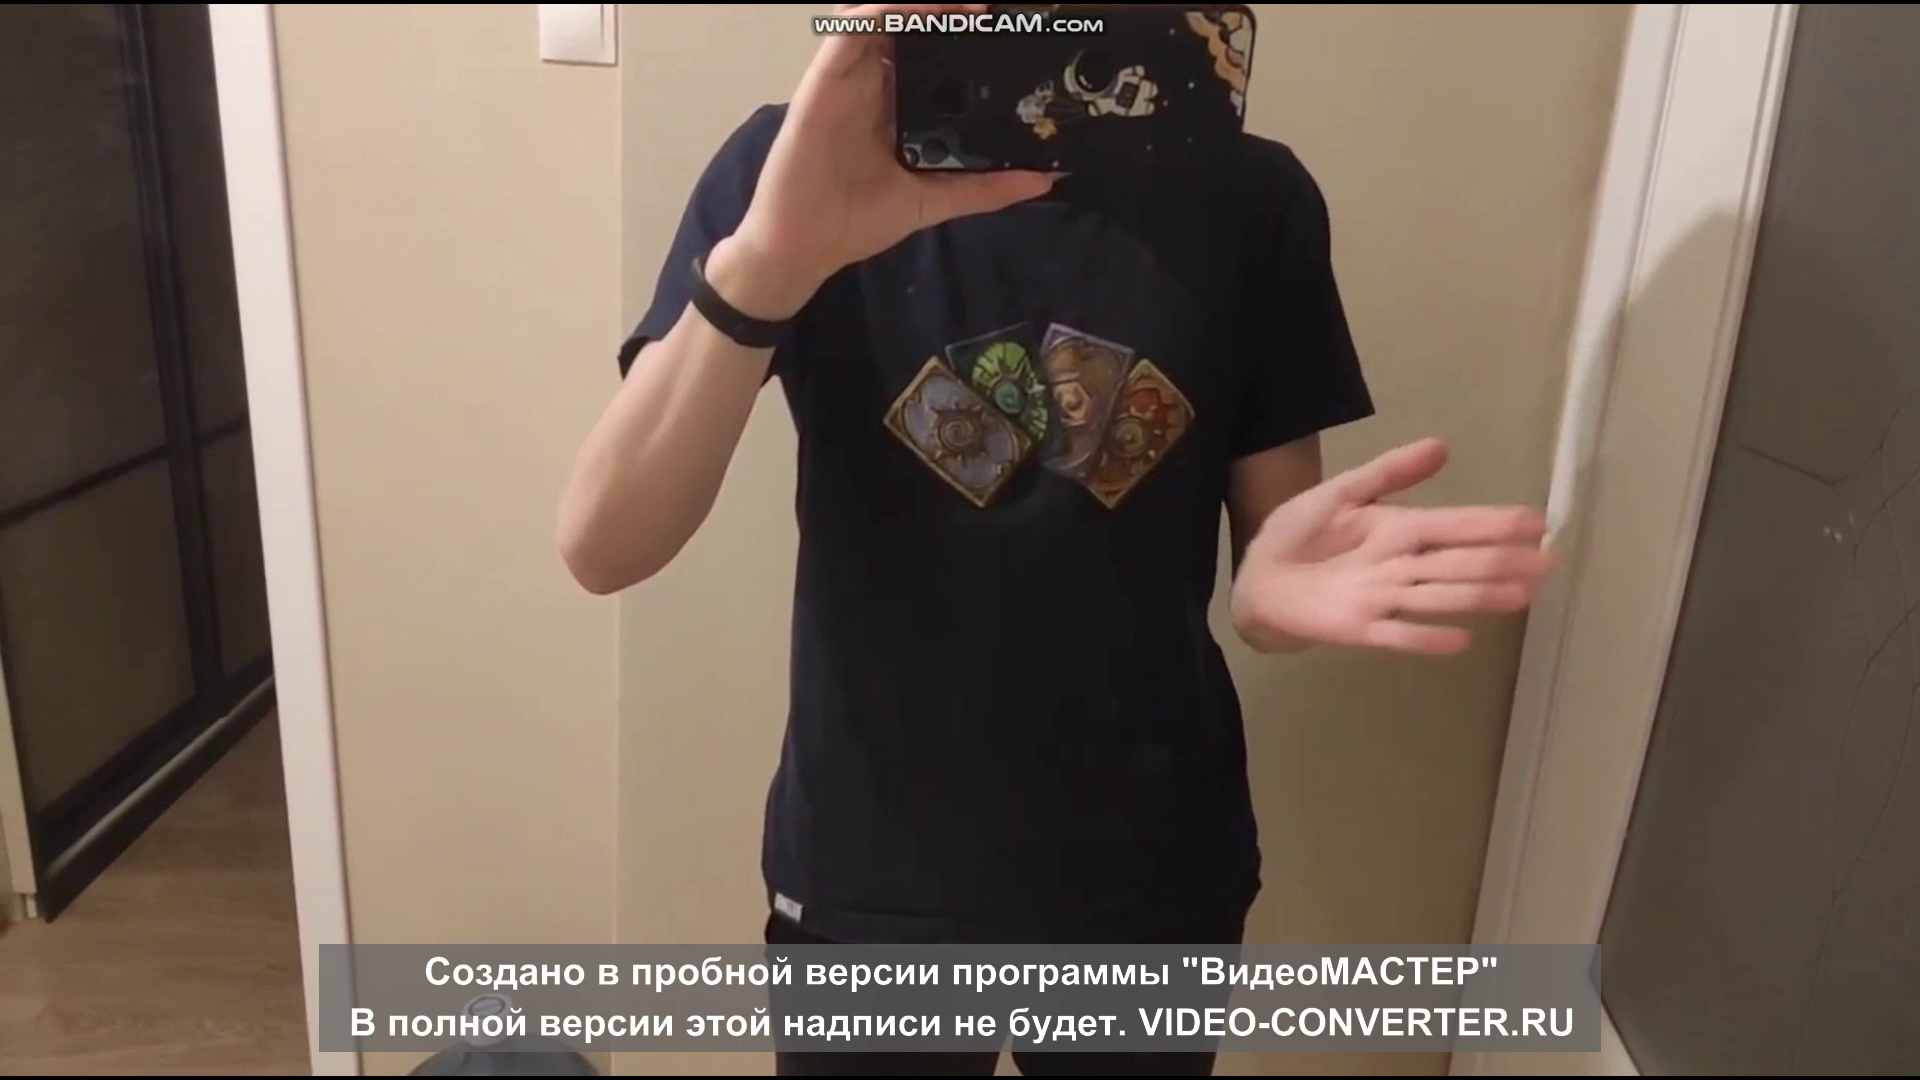Ладонь: (1255, 436, 1557, 659)
